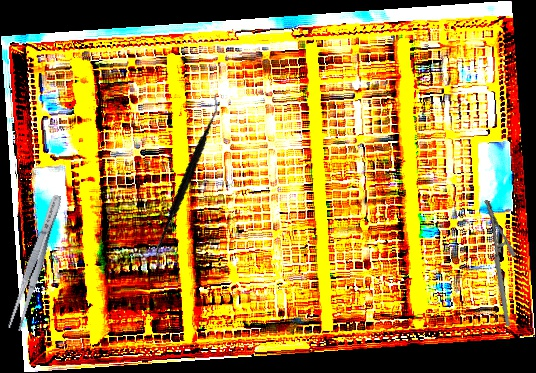Dressing Forceps: (5, 192, 67, 333)
Needle Holder: (462, 199, 532, 327)
Spatula Surgical: (128, 94, 247, 268)
